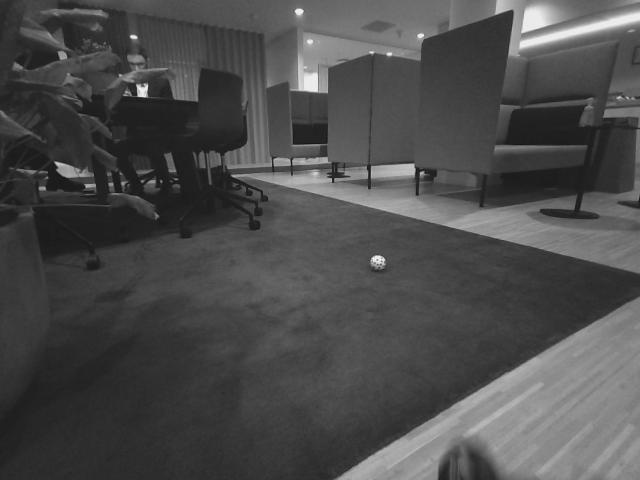dogtoy: (363, 248, 392, 275)
